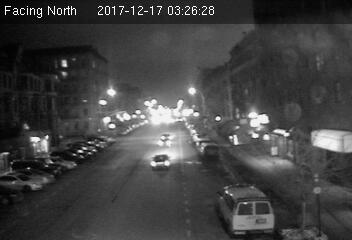car: (149, 153, 174, 172)
police: (216, 182, 275, 235)
